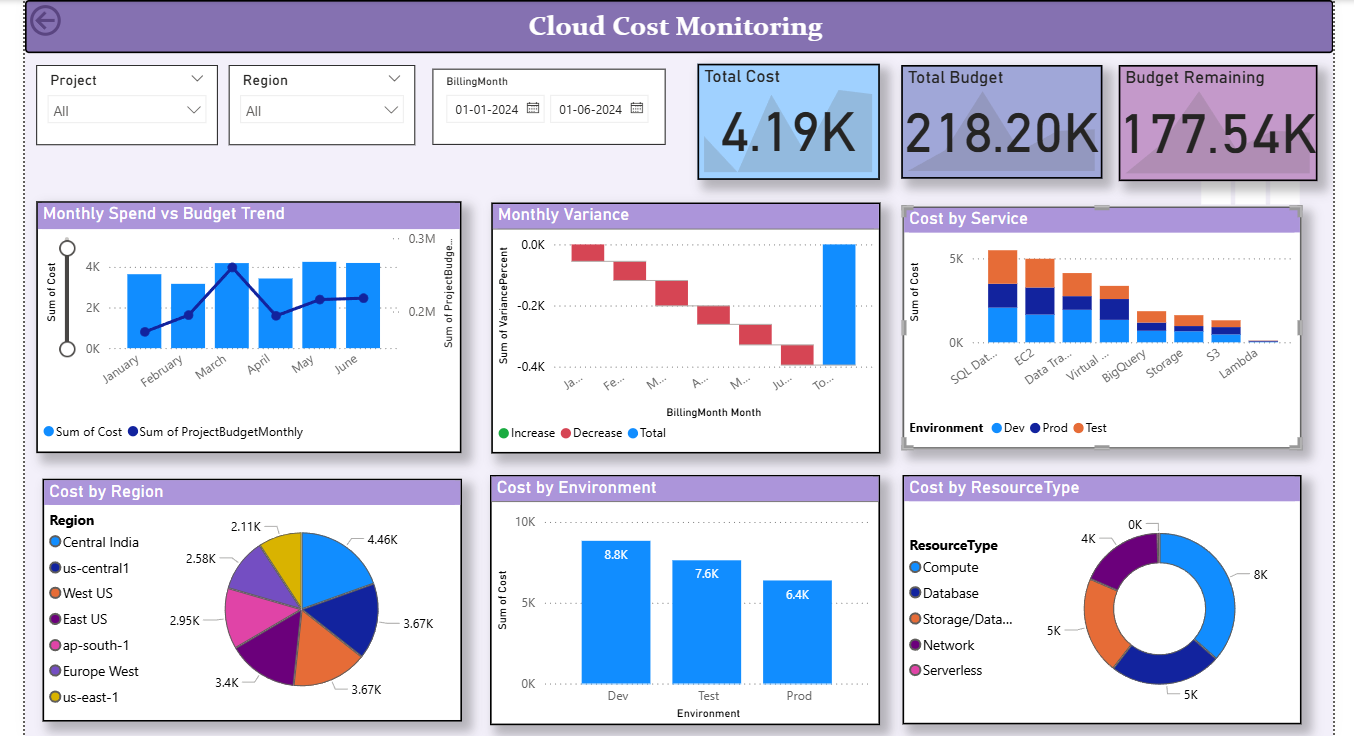

Layout of this report page (visuals, bound fields, positions):
{"tool":"powerbi","page":{"name":"Dashboard ","canvas":[1280,720],"ordinal":0},"visuals":[{"type":"lineStackedColumnComboChart","title":"Monthly Spend vs Budget Trend","fields":{"Category":["cloud_cost_dataset_enhanced.BillingMonth.Variation.Date Hierarchy.Month"],"Y":["Sum(cloud_cost_dataset_enhanced.Cost)"],"Y2":["Sum(cloud_cost_dataset_enhanced.ProjectBudgetMonthly)"]},"box":[10.9,196.6,416.2,246.1],"z":0},{"type":"waterfallChart","title":"Monthly Variance","fields":{"Category":["cloud_cost_dataset_enhanced.BillingMonth.Variation.Date Hierarchy.Month"],"Y":["Sum(cloud_cost_dataset_enhanced.VariancePercent)"]},"box":[455.6,197.8,381.1,245.6],"z":1000},{"type":"actionButton","box":[0,0,100,40],"z":2000},{"type":"columnChart","title":"Cost by Service","fields":{"Category":["cloud_cost_dataset_enhanced.ServiceName"],"Y":["Sum(cloud_cost_dataset_enhanced.Cost)"],"Series":["cloud_cost_dataset_enhanced.Environment"]},"box":[858.8,201.2,390,237.5],"z":3000},{"type":"donutChart","title":"Cost by ResourceType ","fields":{"Category":["cloud_cost_dataset_enhanced.ResourceType"],"Y":["Sum(cloud_cost_dataset_enhanced.Cost)"]},"box":[858.8,465,390,243.8],"z":4000},{"type":"pieChart","title":"Cost by Region","fields":{"Category":["cloud_cost_dataset_enhanced.Region"],"Y":["Sum(cloud_cost_dataset_enhanced.Cost)"]},"box":[17.5,468.8,410,237.5],"z":5000},{"type":"clusteredColumnChart","title":"Cost by Environment","fields":{"Category":["cloud_cost_dataset_enhanced.Environment"],"Y":["Sum(cloud_cost_dataset_enhanced.Cost)"]},"box":[455,465,381.2,245],"z":6000},{"type":"slicer","fields":{"Values":["cloud_cost_dataset_enhanced.BillingMonth"]},"box":[398.1,67.6,228,74.8],"z":8000},{"type":"slicer","fields":{"Values":["cloud_cost_dataset_enhanced.Project"]},"box":[10.9,63.9,177.3,78.4],"z":9000},{"type":"slicer","fields":{"Values":["cloud_cost_dataset_enhanced.Region"]},"box":[199.1,63.9,182.2,78.4],"z":10000},{"type":"kpi","title":"Total Cost","fields":{"Indicator":["cloud_cost_dataset_enhanced.Total Cost"],"TrendLine":["cloud_cost_dataset_enhanced.BillingMonth"]},"box":[657.9,62.4,178.5,113.7],"z":11000},{"type":"kpi","title":"Total Budget","fields":{"Indicator":["cloud_cost_dataset_enhanced.Total Budget"],"TrendLine":["cloud_cost_dataset_enhanced.BillingMonth"]},"box":[857.2,63.6,196.9,111.3],"z":12000},{"type":"kpi","title":"Budget Remaining","fields":{"Indicator":["Sum(cloud_cost_dataset_enhanced.BudgetRemaining)"],"TrendLine":["cloud_cost_dataset_enhanced.BillingMonth"]},"box":[1070,63.6,194.4,113.7],"z":13000},{"type":"textbox","box":[0,0,1280,51.9],"z":14000}]}

Visuals, with their boxes in screenshot pixels (x1, y1, x2, y2):
"Monthly Spend vs Budget Trend" lineStackedColumnComboChart: rect(43, 198, 463, 447)
"Monthly Variance" waterfallChart: rect(492, 200, 876, 448)
actionButton: rect(32, 0, 133, 40)
"Cost by Service" columnChart: rect(899, 203, 1292, 443)
"Cost by ResourceType " donutChart: rect(899, 469, 1292, 715)
"Cost by Region" pieChart: rect(49, 473, 463, 713)
"Cost by Environment" clusteredColumnChart: rect(491, 469, 876, 717)
slicer - cloud_cost_dataset_enhanced.BillingMonth: rect(434, 68, 664, 144)
slicer - cloud_cost_dataset_enhanced.Project: rect(43, 64, 222, 144)
slicer - cloud_cost_dataset_enhanced.Region: rect(233, 64, 417, 144)
"Total Cost" kpi: rect(696, 63, 876, 178)
"Total Budget" kpi: rect(897, 64, 1096, 177)
"Budget Remaining" kpi: rect(1112, 64, 1308, 179)
textbox: rect(32, 0, 1324, 52)
